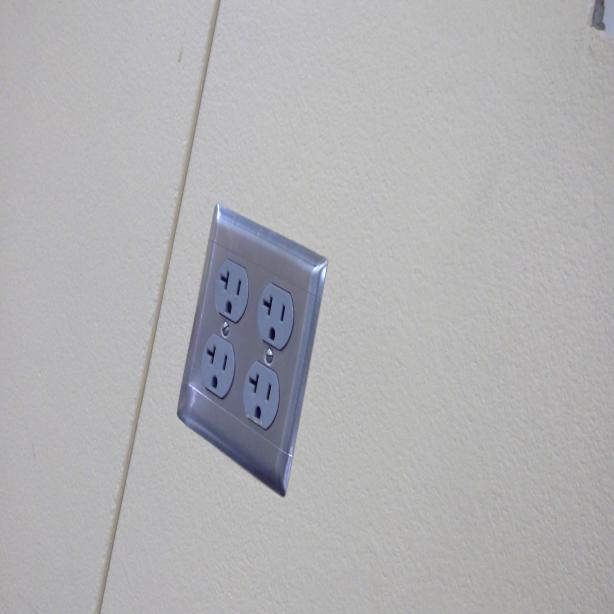typeb: (255, 272, 293, 346), (244, 364, 282, 436), (213, 254, 249, 321), (202, 333, 236, 395)
